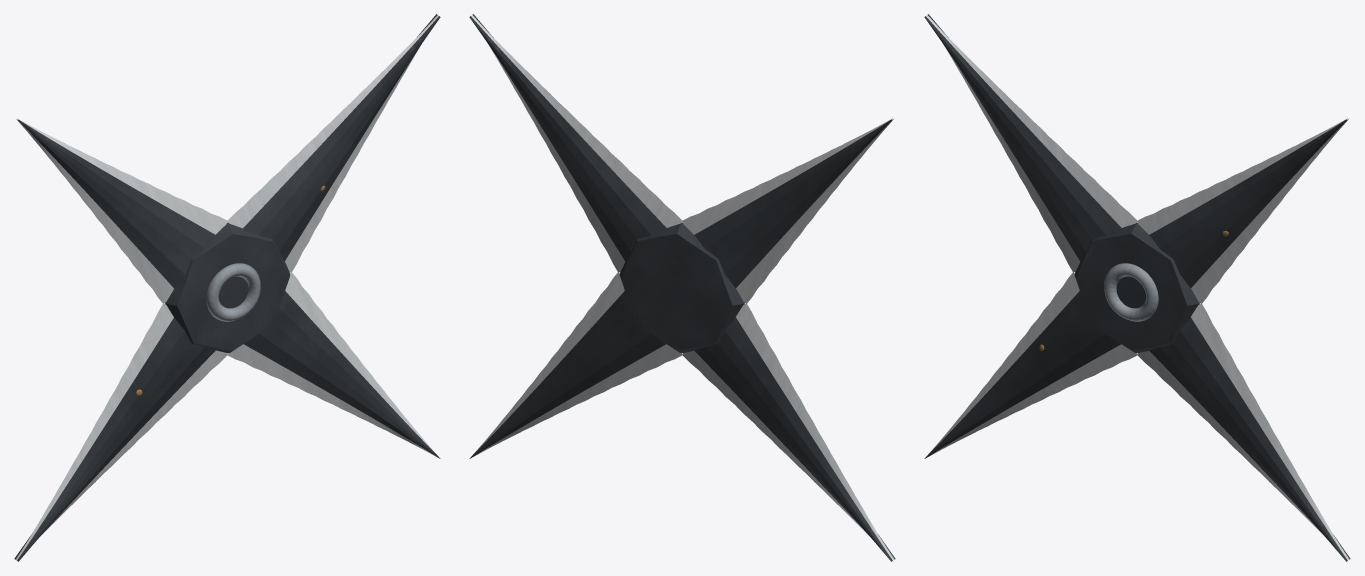
The model's file is shuriken.lod1.glb.
3 views of the same model, side by side, from view 1: azimuth 30°, elevation 25°; view 2: azimuth 150°, elevation 25°; view 3: azimuth 330°, elevation 25° (orthographic).
Visible parts, largest first — view 1: darksteel / oil-blackened fittings, edge / honed bright bevel, steel / forged blade steel; view 2: darksteel / oil-blackened fittings, edge / honed bright bevel; view 3: darksteel / oil-blackened fittings, edge / honed bright bevel, steel / forged blade steel.
Boxes of the visible parts, x1,y1,x2,y2 form: darksteel / oil-blackened fittings: (14, 14, 440, 561); edge / honed bright bevel: (15, 15, 439, 560); steel / forged blade steel: (206, 263, 260, 321); darksteel / oil-blackened fittings: (469, 14, 895, 561); edge / honed bright bevel: (471, 15, 894, 560); darksteel / oil-blackened fittings: (924, 14, 1350, 561); edge / honed bright bevel: (926, 15, 1349, 560); steel / forged blade steel: (1104, 263, 1158, 321).
Size of the model in its own units: 0.2408 by 0.2408 by 0.0155.
Materials: 4 (3 with a texture image).
